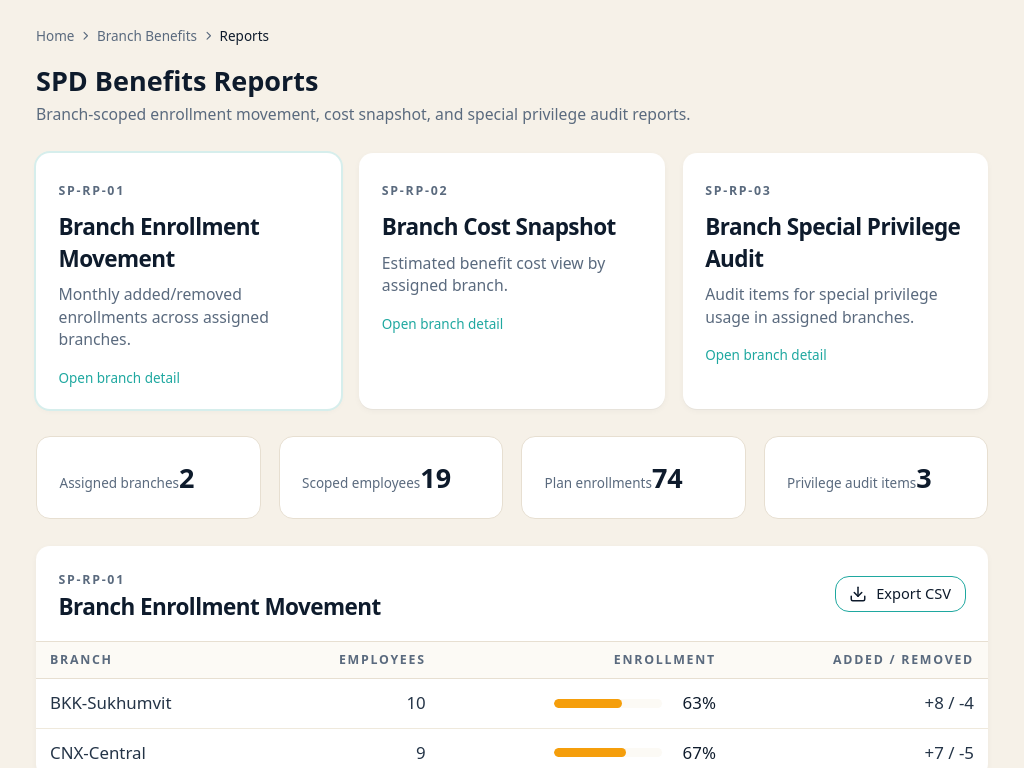
Test: SpdReportsLanding › switches the detail metric when a report card is opened
What coordinates should you click on to do the following:
click the heading "Branch Cost Snapshot"
I would click on:
 (512, 227)
Its box is [382,212,642,243].
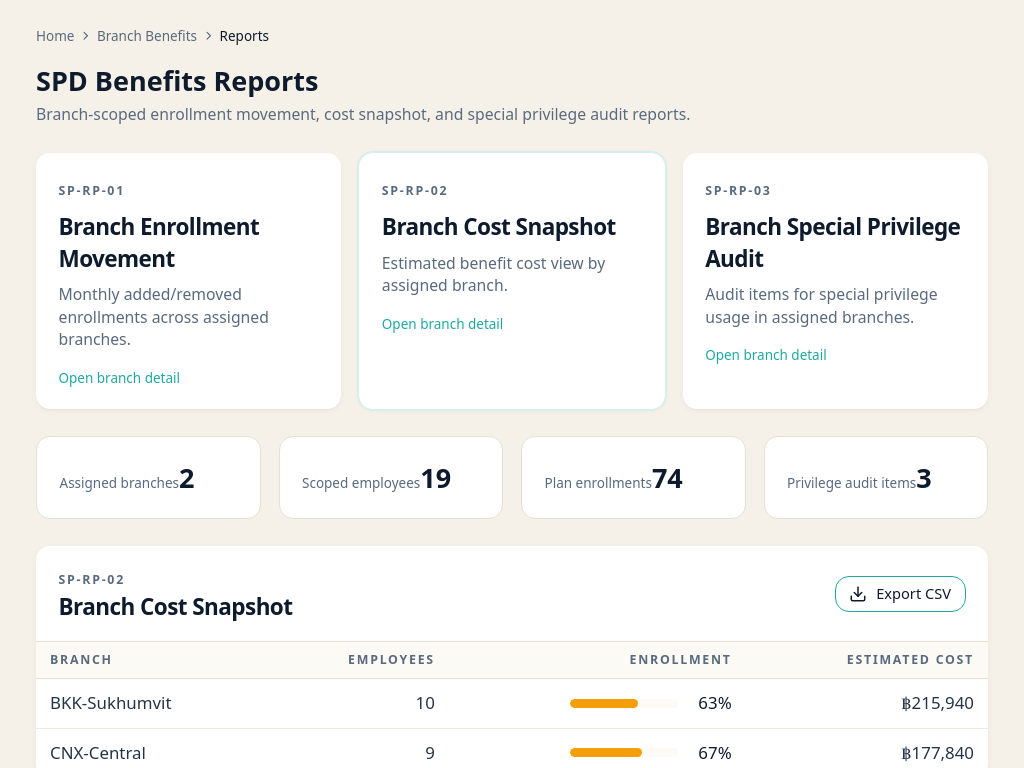
Expected: the column heading "Estimated cost" is shown, [746,642,988,679]
